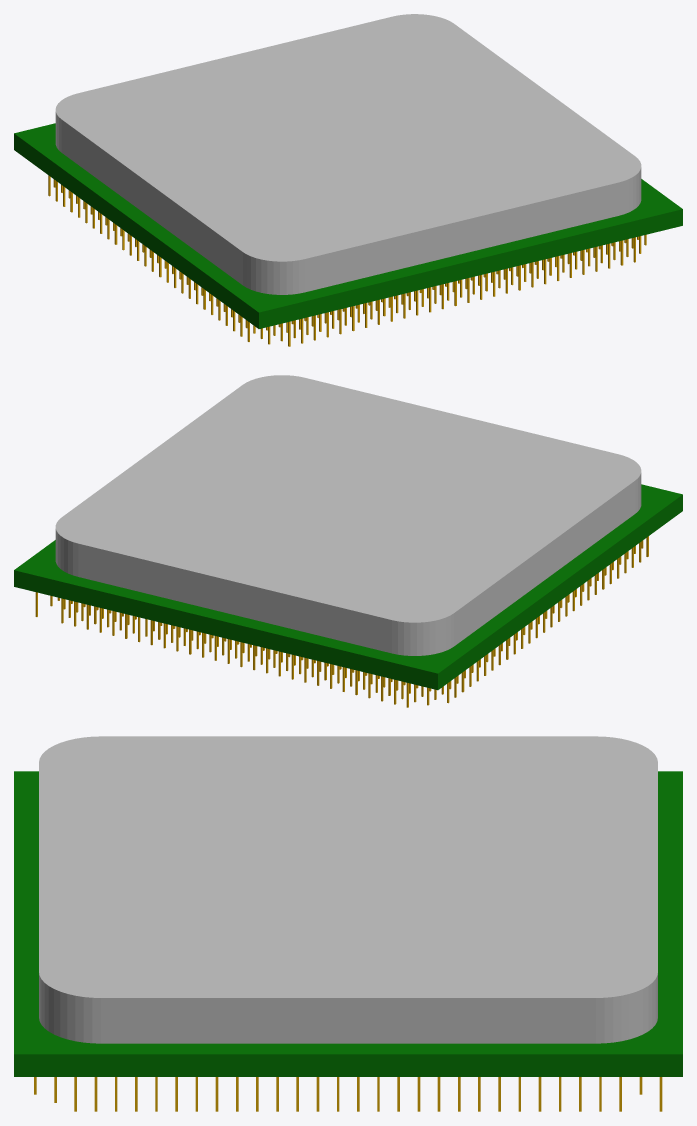
Rendered from cpu-amd.glb.
3 views of the same model, one above another, from view 1: azimuth 30°, elevation 25°; view 2: azimuth 150°, elevation 25°; view 3: azimuth 270°, elevation 25° (orthographic). The views are drawn at different scales.
Visible parts, largest first — view 1: PCB-base, Piny; view 2: PCB-base, Piny; view 3: PCB-base, Piny.
Boxes of the visible parts, x1,y1,x2,y2 form: PCB-base: [14, 14, 682, 328]; Piny: [48, 175, 646, 346]; PCB-base: [14, 375, 682, 690]; Piny: [35, 536, 648, 707]; PCB-base: [14, 736, 682, 1076]; Piny: [34, 1077, 662, 1111].
Size of the model in its own units: 0.04 by 0.00741 by 0.04.
